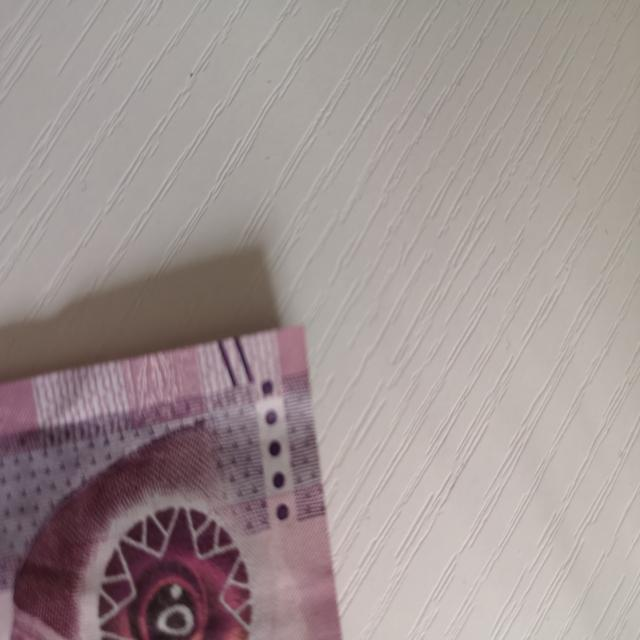50-dinar: (0, 324, 343, 640)
